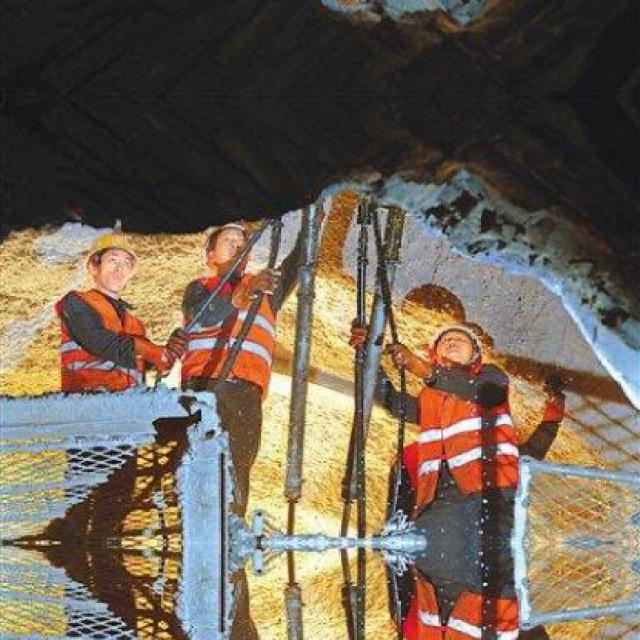helmet: (79, 228, 139, 292), (197, 214, 255, 275), (432, 323, 478, 366)
